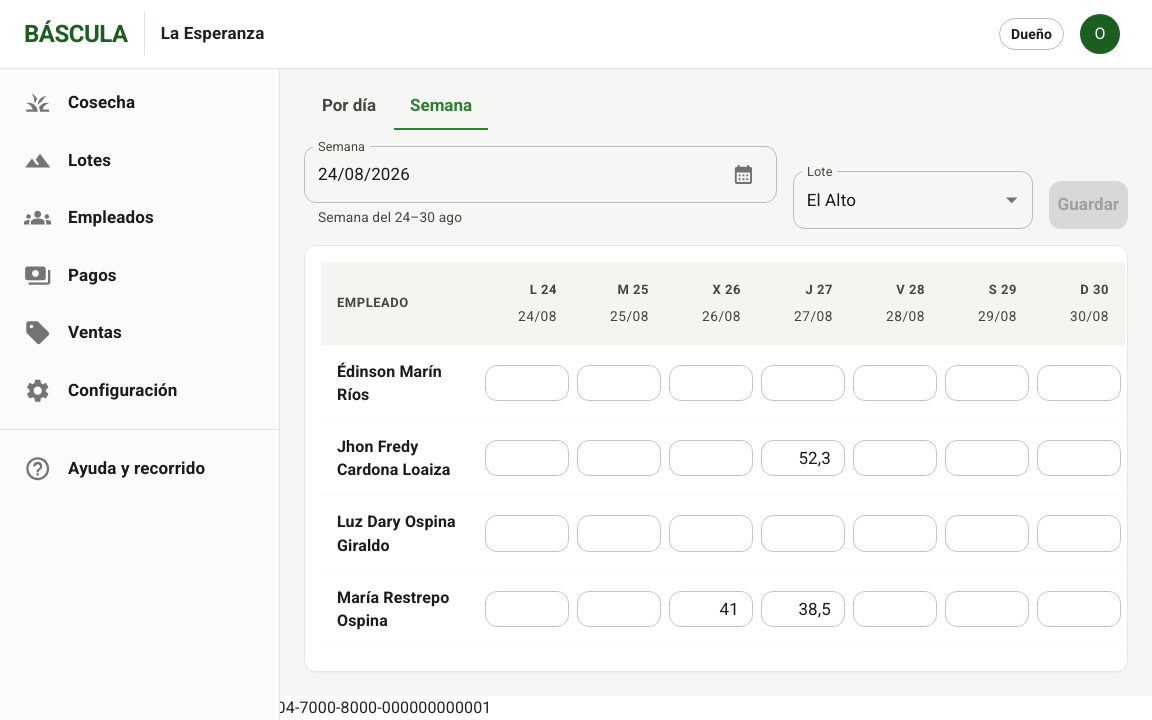
it: Planilla pickers › says the sheet was saved, and the message closes
(page scrolled)
Step 1. Type "41" into the field named "María Restrepo Ospina, L 24" → (527, 609), box [485,591,569,627]
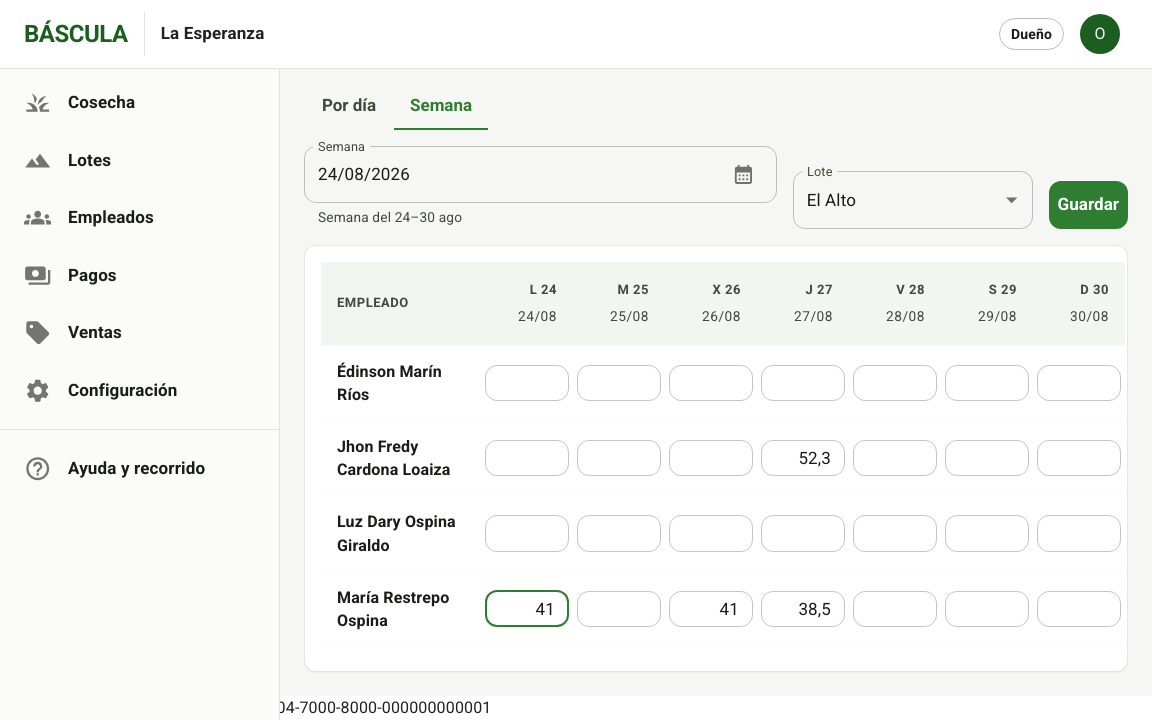
Step 2. Click the button "Guardar" → (1088, 205), box [1049,181,1128,229]
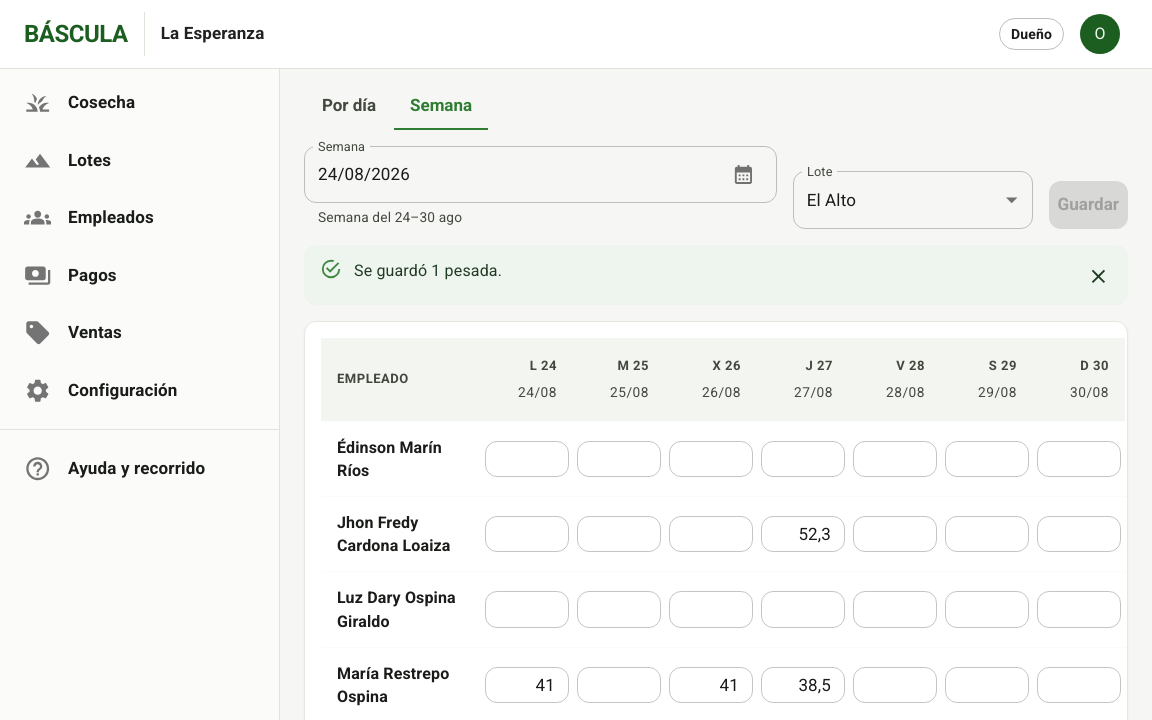
Now the message "Se guardó 1 pesada." is shown, box [304,245,1128,305]
Step 3. Click the button named "Cerrar" → (1098, 277), box [1076,255,1120,299]
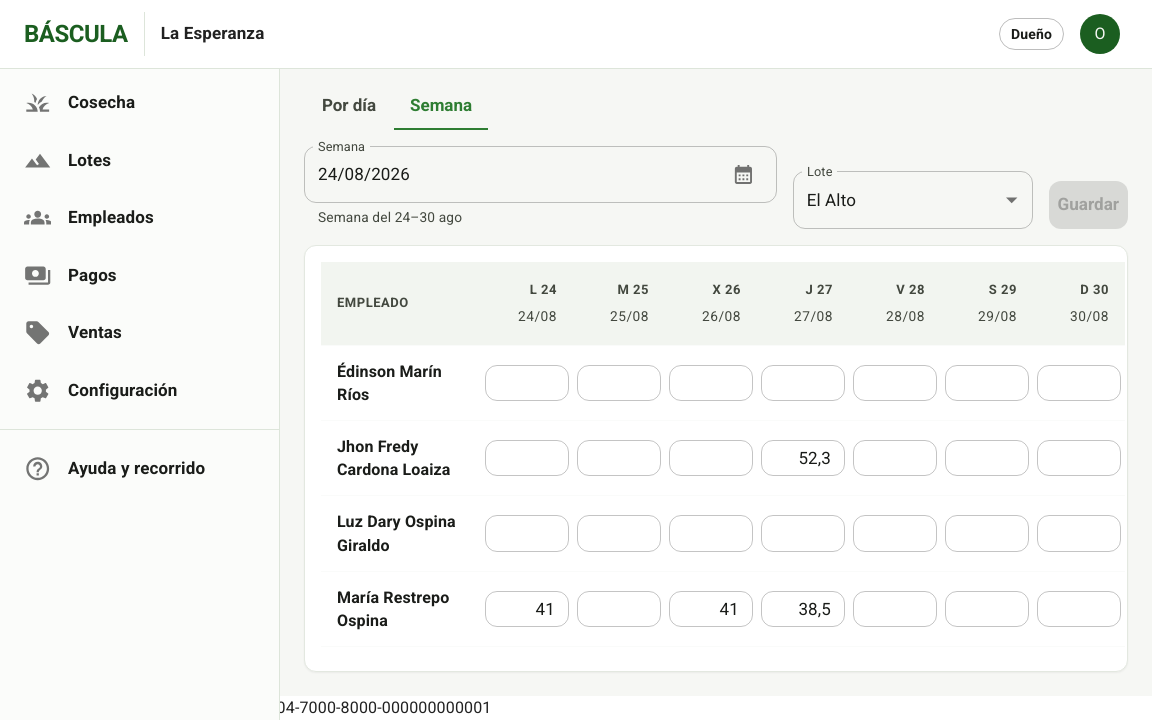
Now the message "Se guardó 1 pesada." is gone
